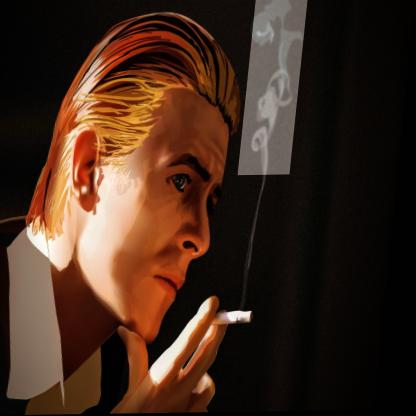smoke: (241, 0, 308, 176)
